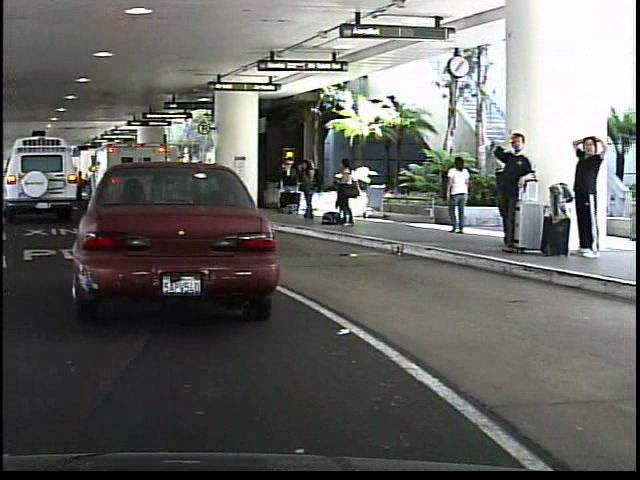person: (488, 127, 533, 254), (566, 124, 603, 260), (436, 154, 477, 235), (330, 157, 357, 228)
